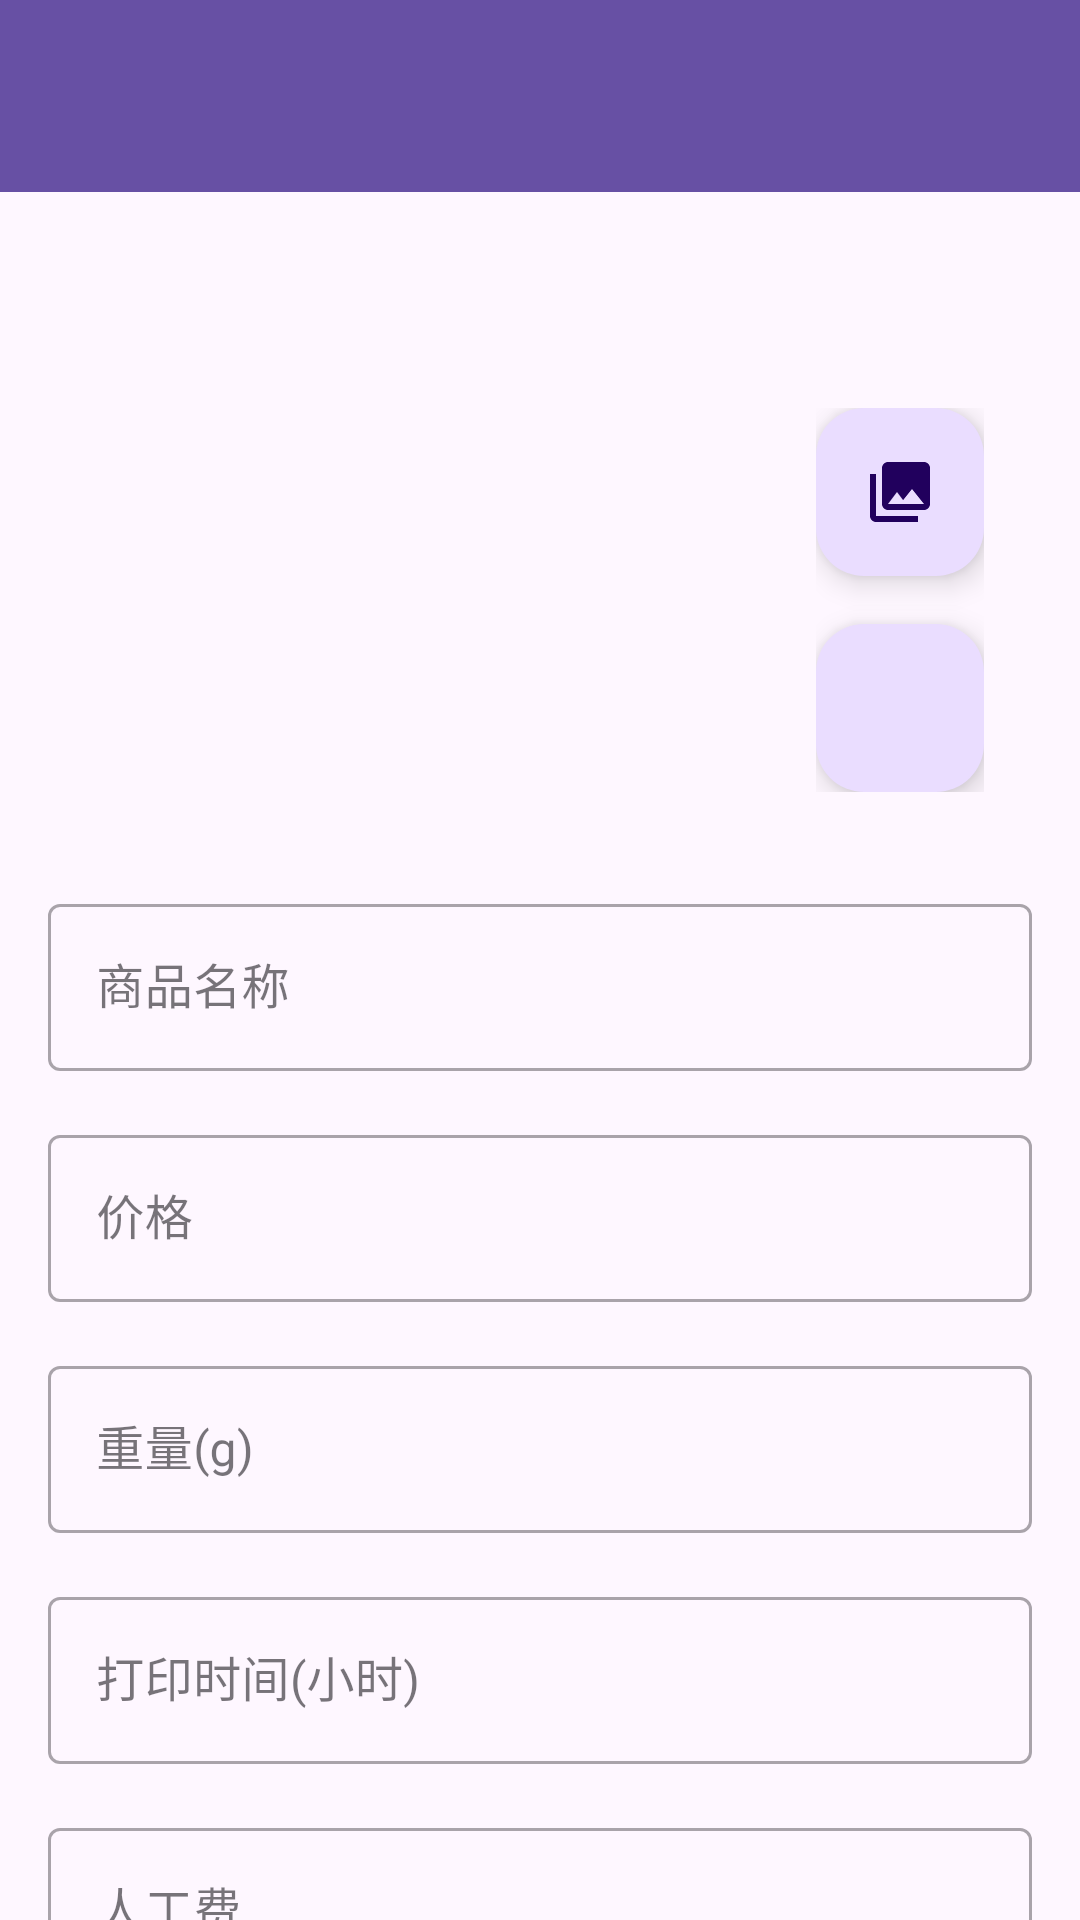

Icons on this 1080*1920 Android screen, each with the point to tap as point (x, y):
gallery: point (900, 492)
